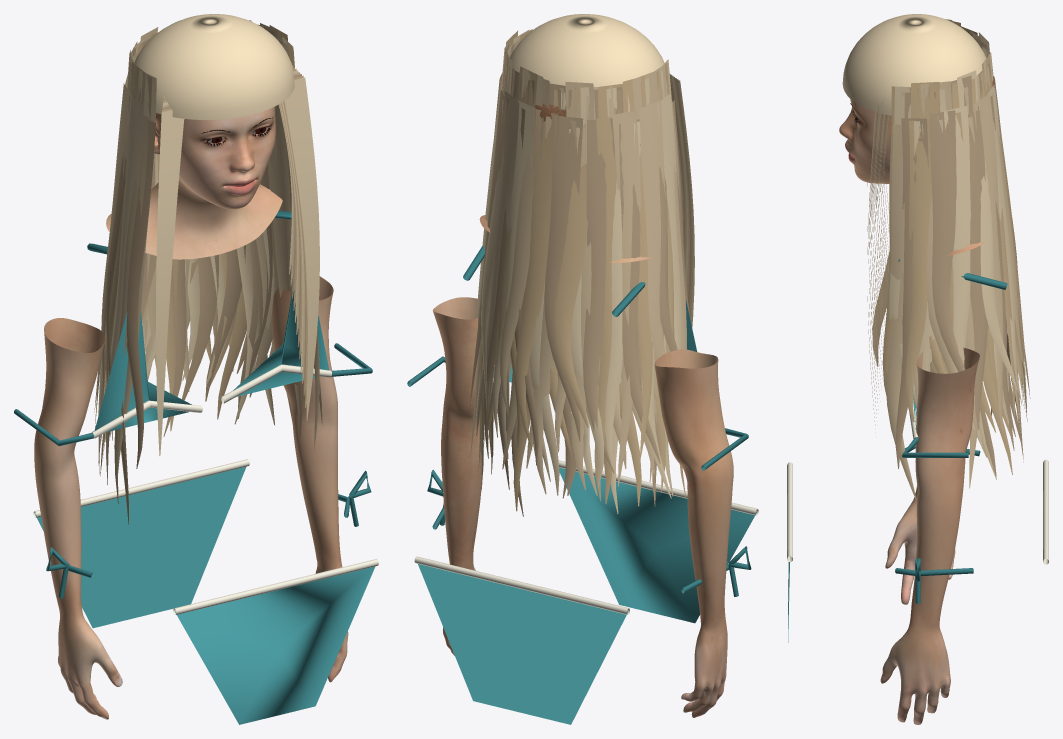
The model's file is riley-blonde-standing.glb.
The picture shows the model from 3 angles, left to right: view 1: azimuth 30°, elevation 25°; view 2: azimuth 150°, elevation 25°; view 3: azimuth 270°, elevation 25°; orthographic projection. The views are drawn at different scales.
Parts seen in each view (by area): view 1: Riley | anatomical body, Riley | bikini bottom front, Riley | bikini bottom back, Riley fitted blonde hair crown, Riley soft blonde face wave -1 12, Riley soft blonde face wave 1 12, Riley soft blonde layer 1 strand 37, Riley | bikini triangle top -1, Riley soft blonde layer 0 strand 6, Riley soft blonde layer 1 strand 35, Riley | bikini triangle top 1, Riley soft blonde layer 0 strand 19 (+21 smaller); view 2: Riley | anatomical body, Riley | bikini bottom back, Riley | bikini bottom front, Riley fitted blonde hair crown, Riley soft blonde layer 1 strand 18, Riley soft blonde layer 1 strand 25, Riley soft blonde layer 1 strand 21, Riley soft blonde layer 1 strand 32, Riley soft blonde layer 1 strand 22, Riley soft blonde layer 1 strand 28, Riley soft blonde layer 1 strand 16, Riley soft blonde layer 1 strand 26 (+34 smaller); view 3: Riley | anatomical body, Riley fitted blonde hair crown, Riley soft blonde layer 1 strand 5, Riley soft blonde layer 1 strand 2, Riley soft blonde layer 1 strand 0, Riley soft blonde layer 1 strand 7, Riley soft blonde layer 1 strand 9, Riley soft blonde layer 1 strand 1, Riley soft blonde layer 1 strand 12, Riley soft blonde layer 1 strand 11, Riley soft blonde layer 1 strand 15, Riley soft blonde layer 0 strand 4 (+18 smaller).
Boxes of the visible parts, bbox=[...] form: Riley | anatomical body: bbox=[34, 107, 348, 719]; Riley | bikini bottom front: bbox=[175, 566, 375, 724]; Riley | bikini bottom back: bbox=[35, 466, 246, 628]; Riley fitted blonde hair crown: bbox=[134, 14, 294, 119]; Riley soft blonde face wave -1 12: bbox=[156, 110, 184, 455]; Riley soft blonde face wave 1 12: bbox=[284, 77, 319, 420]; Riley soft blonde layer 1 strand 37: bbox=[126, 120, 155, 468]; Riley | bikini triangle top -1: bbox=[94, 312, 191, 431]; Riley soft blonde layer 0 strand 6: bbox=[260, 23, 302, 437]; Riley soft blonde layer 1 strand 35: bbox=[106, 95, 143, 443]; Riley | bikini triangle top 1: bbox=[233, 290, 329, 396]; Riley soft blonde layer 0 strand 19: bbox=[182, 254, 218, 400]; Riley | anatomical body: bbox=[432, 103, 733, 717]; Riley | bikini bottom back: bbox=[418, 564, 627, 724]; Riley | bikini bottom front: bbox=[559, 467, 756, 623]; Riley fitted blonde hair crown: bbox=[510, 14, 664, 86]; Riley soft blonde layer 1 strand 18: bbox=[516, 108, 558, 449]; Riley soft blonde layer 1 strand 25: bbox=[583, 118, 614, 473]; Riley soft blonde layer 1 strand 21: bbox=[544, 115, 583, 441]; Riley soft blonde layer 1 strand 32: bbox=[639, 100, 665, 359]; Riley soft blonde layer 1 strand 22: bbox=[554, 163, 588, 427]; Riley soft blonde layer 1 strand 28: bbox=[612, 110, 640, 486]; Riley soft blonde layer 1 strand 16: bbox=[500, 117, 543, 415]; Riley soft blonde layer 1 strand 26: bbox=[594, 117, 616, 501]; Riley | anatomical body: bbox=[839, 76, 994, 724]; Riley fitted blonde hair crown: bbox=[842, 14, 986, 115]; Riley soft blonde layer 1 strand 5: bbox=[929, 110, 974, 405]; Riley soft blonde layer 1 strand 2: bbox=[905, 120, 934, 422]; Riley soft blonde layer 1 strand 0: bbox=[886, 124, 920, 500]; Riley soft blonde layer 1 strand 7: bbox=[943, 106, 975, 430]; Riley soft blonde layer 1 strand 9: bbox=[968, 110, 987, 430]; Riley soft blonde layer 1 strand 1: bbox=[895, 118, 928, 468]; Riley soft blonde layer 1 strand 12: bbox=[973, 94, 1003, 432]; Riley soft blonde layer 1 strand 11: bbox=[980, 108, 1017, 389]; Riley soft blonde layer 1 strand 15: bbox=[987, 85, 1021, 405]; Riley soft blonde layer 0 strand 4: bbox=[911, 82, 945, 373].
Size of the model in its own units: 0.4794 by 0.9671 by 0.3521.
Materials: 12 (5 with a texture image).
